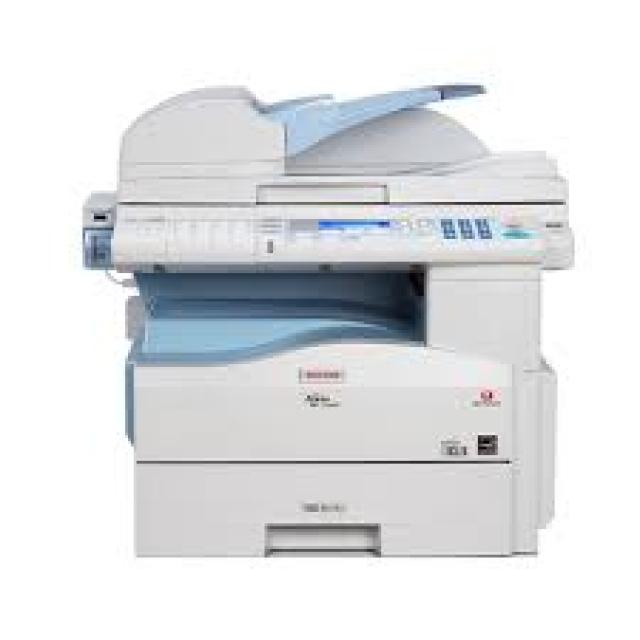printer: (80, 80, 574, 558)
